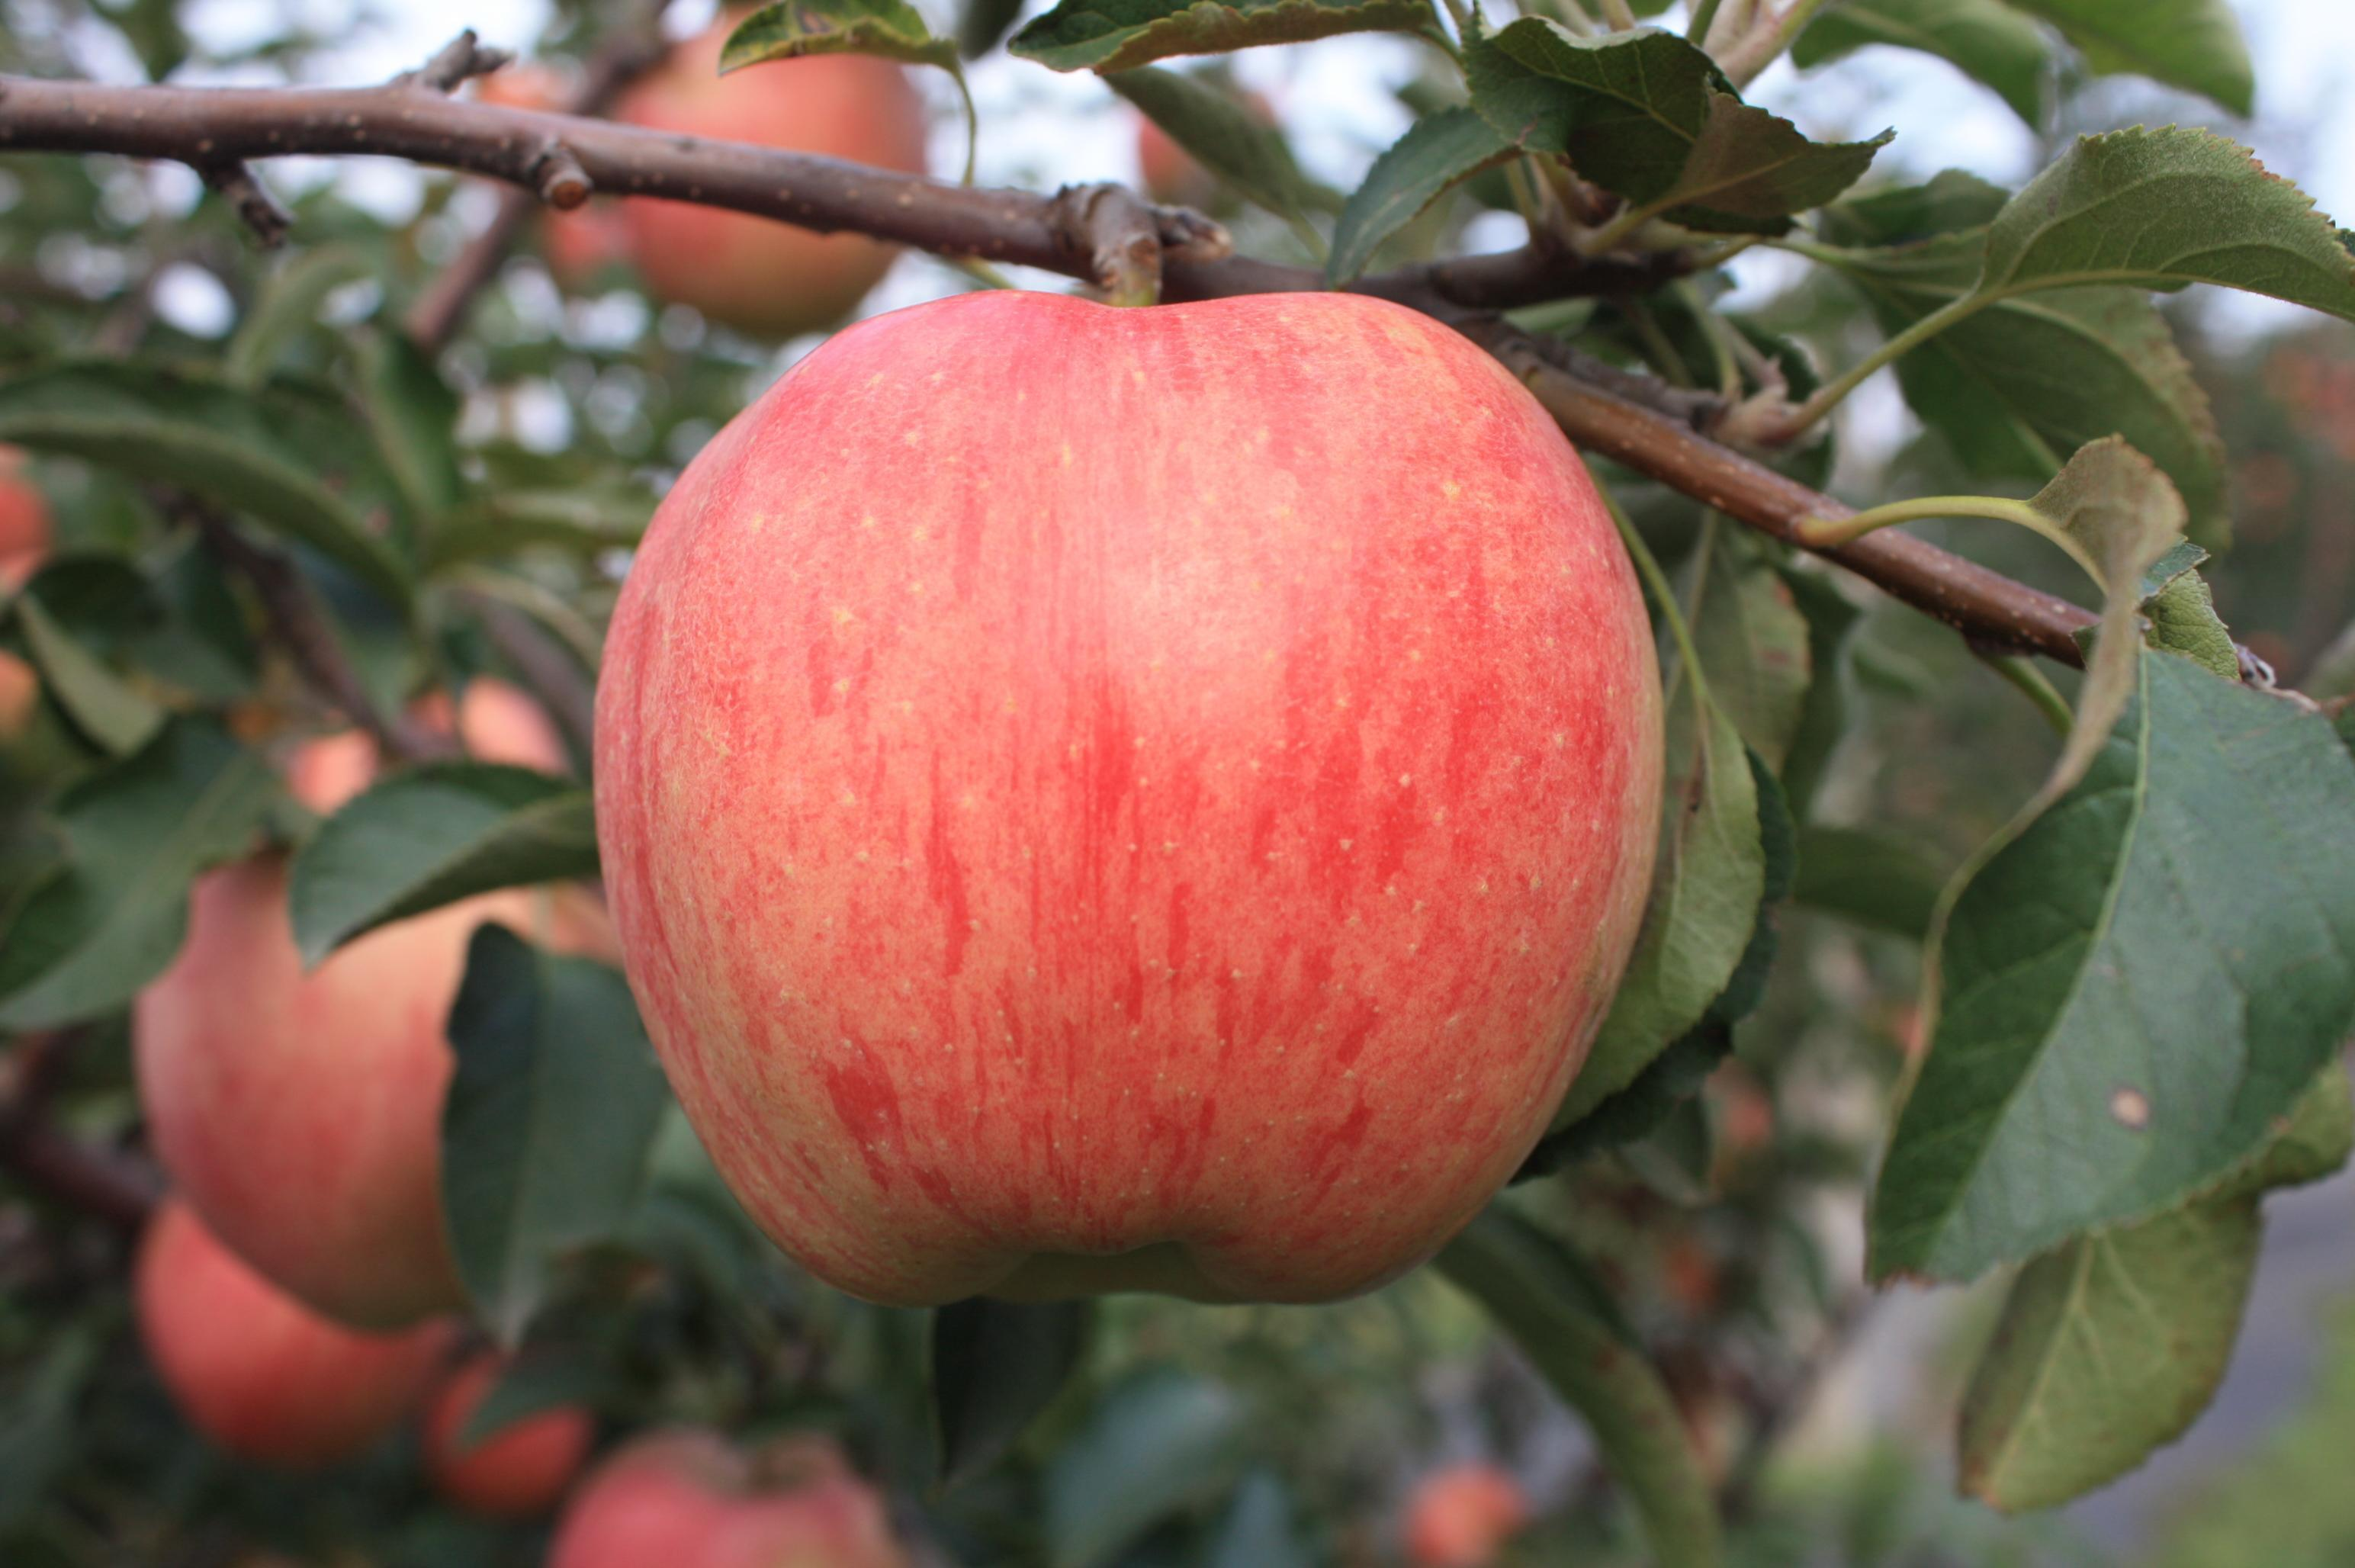apple: (605, 290, 1669, 1291)
